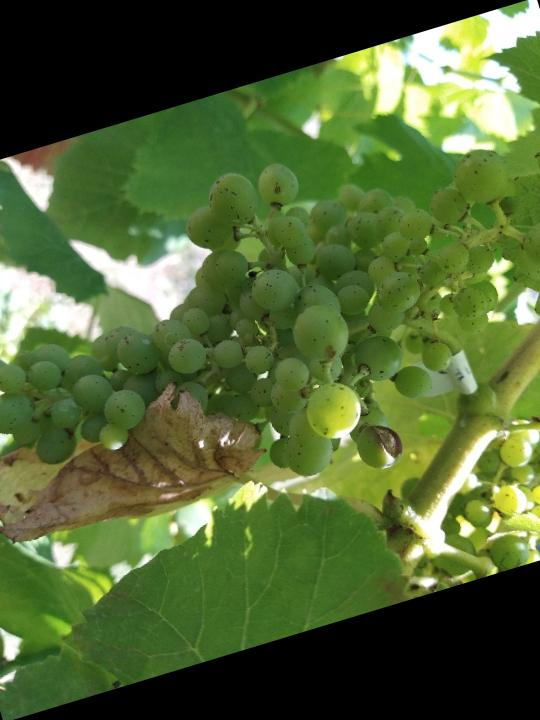grape: (0, 76, 540, 583)
